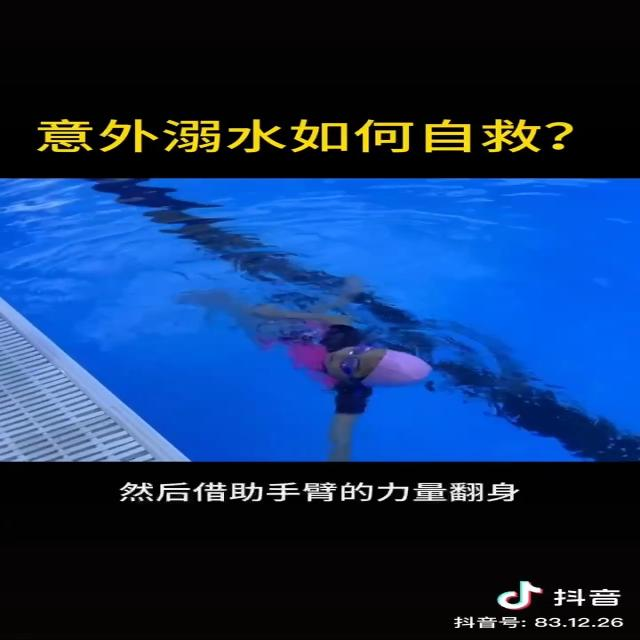Drowning: (179, 281, 434, 461)
